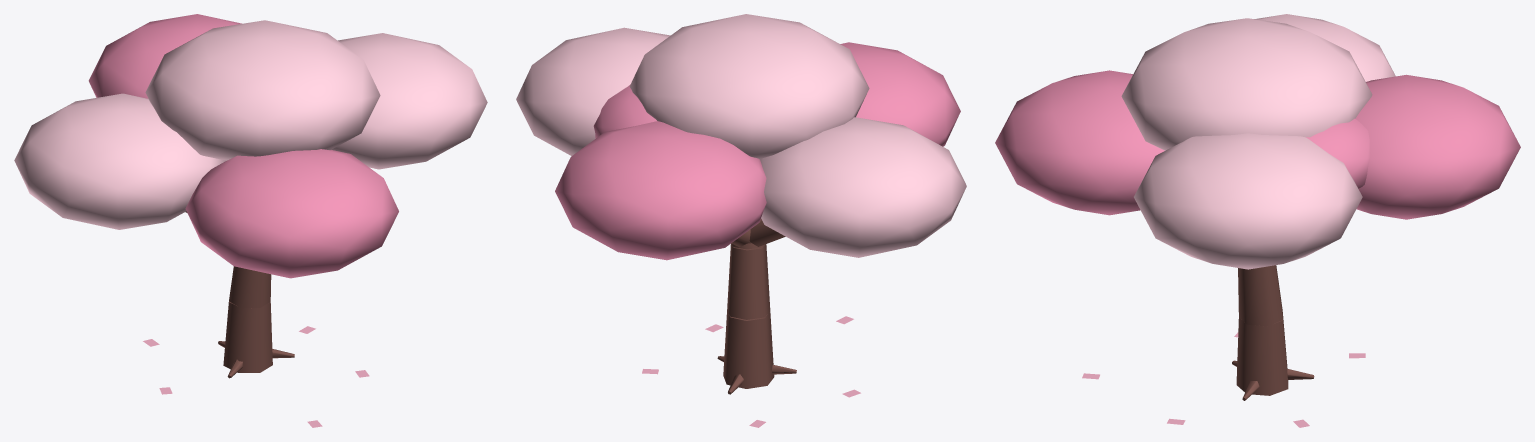
The model's file is sakura-bloom.glb.
The picture shows the model from 3 angles, left to right: view 1: azimuth 30°, elevation 25°; view 2: azimuth 150°, elevation 25°; view 3: azimuth 270°, elevation 25°; orthographic projection. The views are drawn at different scales.
Visible parts, largest first — view 1: Merged_foliage-light, Merged_foliage, Merged_bark; view 2: Merged_foliage-light, Merged_foliage, Merged_bark, Merged_sakura-petal; view 3: Merged_foliage-light, Merged_foliage, Merged_bark.
Boxes of the visible parts, bbox=[...] form: Merged_foliage-light: bbox=[14, 20, 487, 229]; Merged_foliage: bbox=[88, 14, 398, 278]; Merged_bark: bbox=[185, 211, 294, 378]; Merged_foliage-light: bbox=[516, 14, 966, 257]; Merged_foliage: bbox=[555, 42, 960, 260]; Merged_bark: bbox=[717, 219, 796, 394]; Merged_sakura-petal: bbox=[642, 316, 860, 427]; Merged_foliage-light: bbox=[1121, 14, 1395, 269]; Merged_foliage: bbox=[995, 70, 1520, 219]; Merged_bark: bbox=[1232, 265, 1314, 400].
Size of what is drawn, in the model's own units: 5.03 by 3.7 by 5.01.
